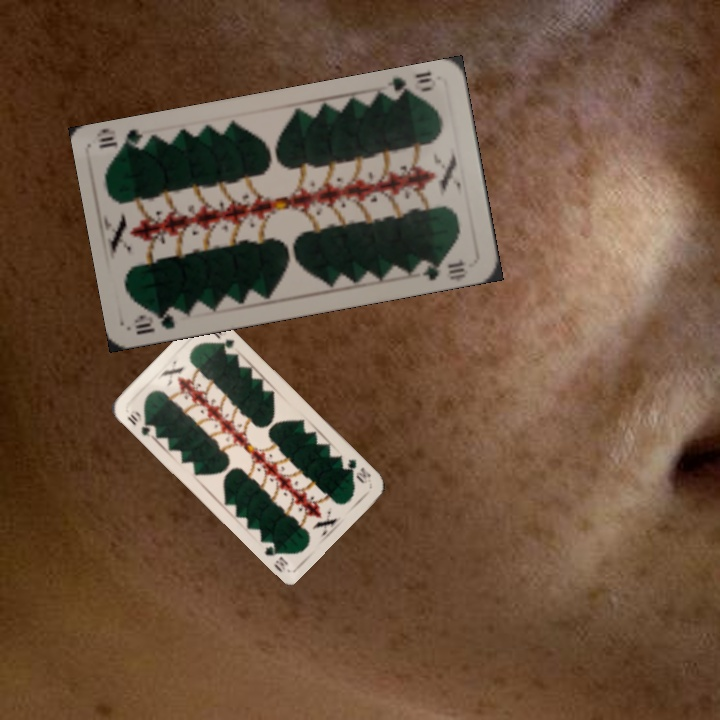G10: (382, 68, 439, 103), (130, 306, 178, 338), (123, 408, 155, 440), (343, 455, 374, 486)
